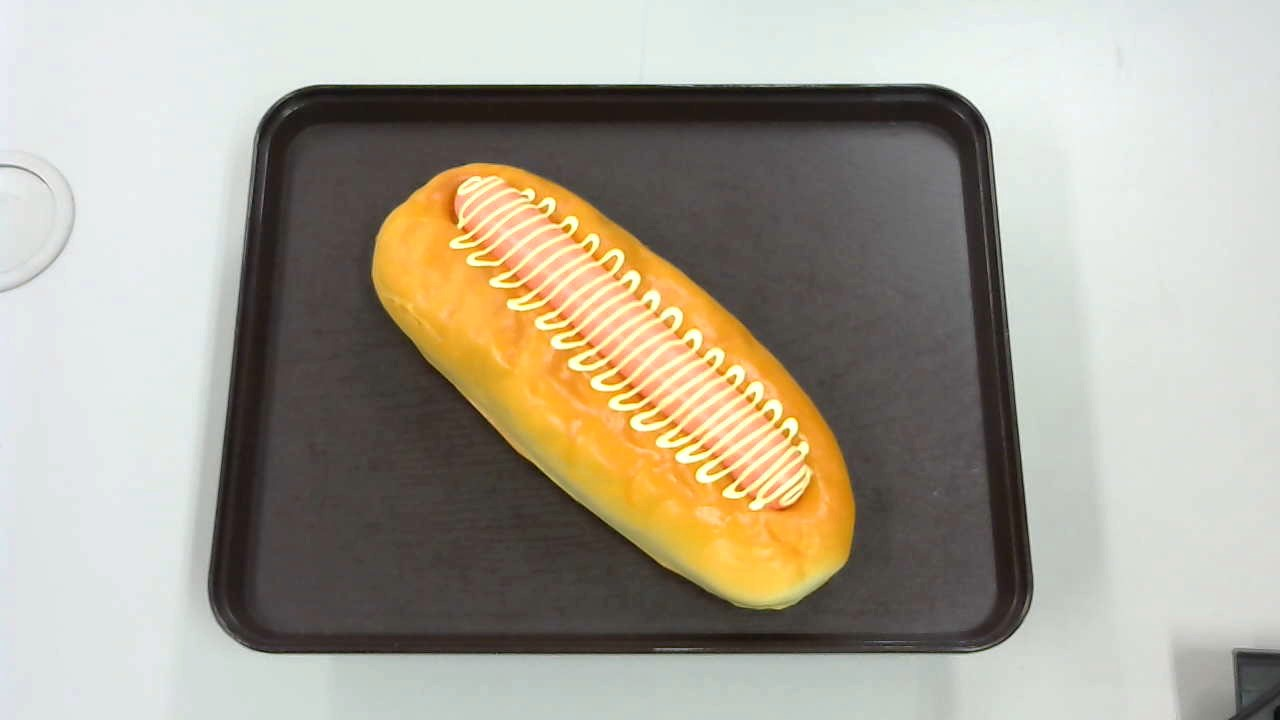hot dog: (371, 162, 856, 611)
